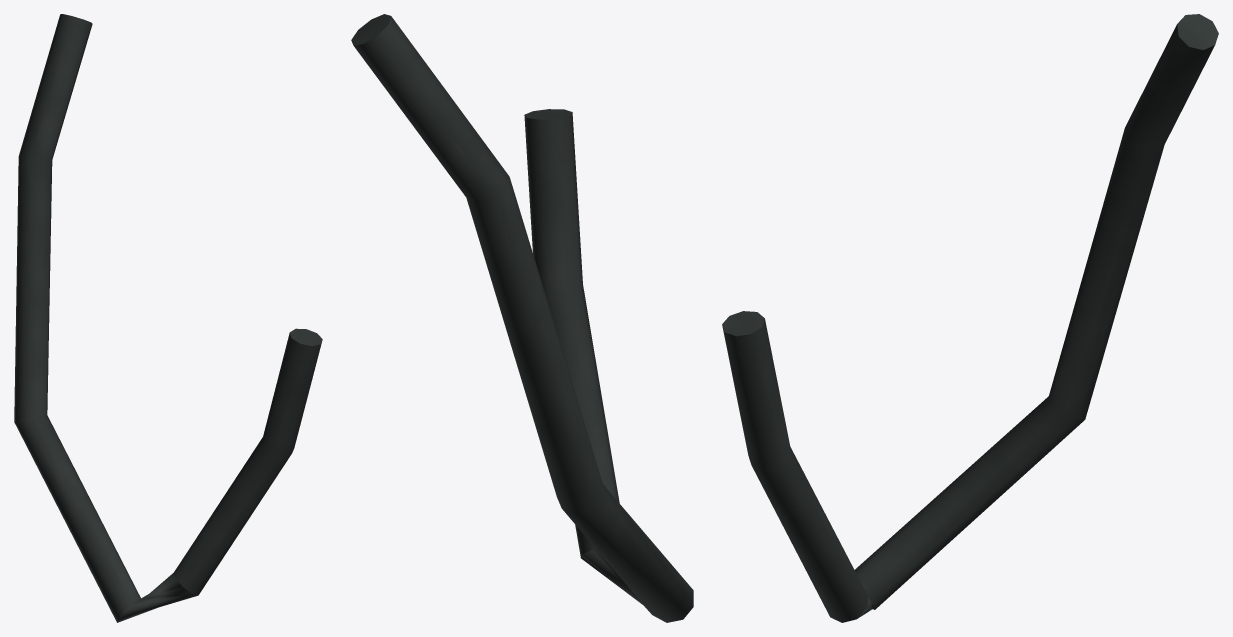
The model's file is flex_vessel_keeper.fbx.
The picture shows the model from 3 angles, left to right: view 1: azimuth 30°, elevation 25°; view 2: azimuth 150°, elevation 25°; view 3: azimuth 270°, elevation 25°; orthographic projection. The views are drawn at different scales.
Visible parts, largest first — view 1: SM_flex_vessel_keeper; view 2: SM_flex_vessel_keeper; view 3: SM_flex_vessel_keeper.
Part boxes in pixels (left/top/right/bottom): SM_flex_vessel_keeper: left=14, top=14, right=322, bottom=622; SM_flex_vessel_keeper: left=351, top=14, right=693, bottom=622; SM_flex_vessel_keeper: left=722, top=14, right=1218, bottom=622.
Size of the model in its own units: 0.0203 by 0.0543 by 0.0383.
1 material, 1 textured.
